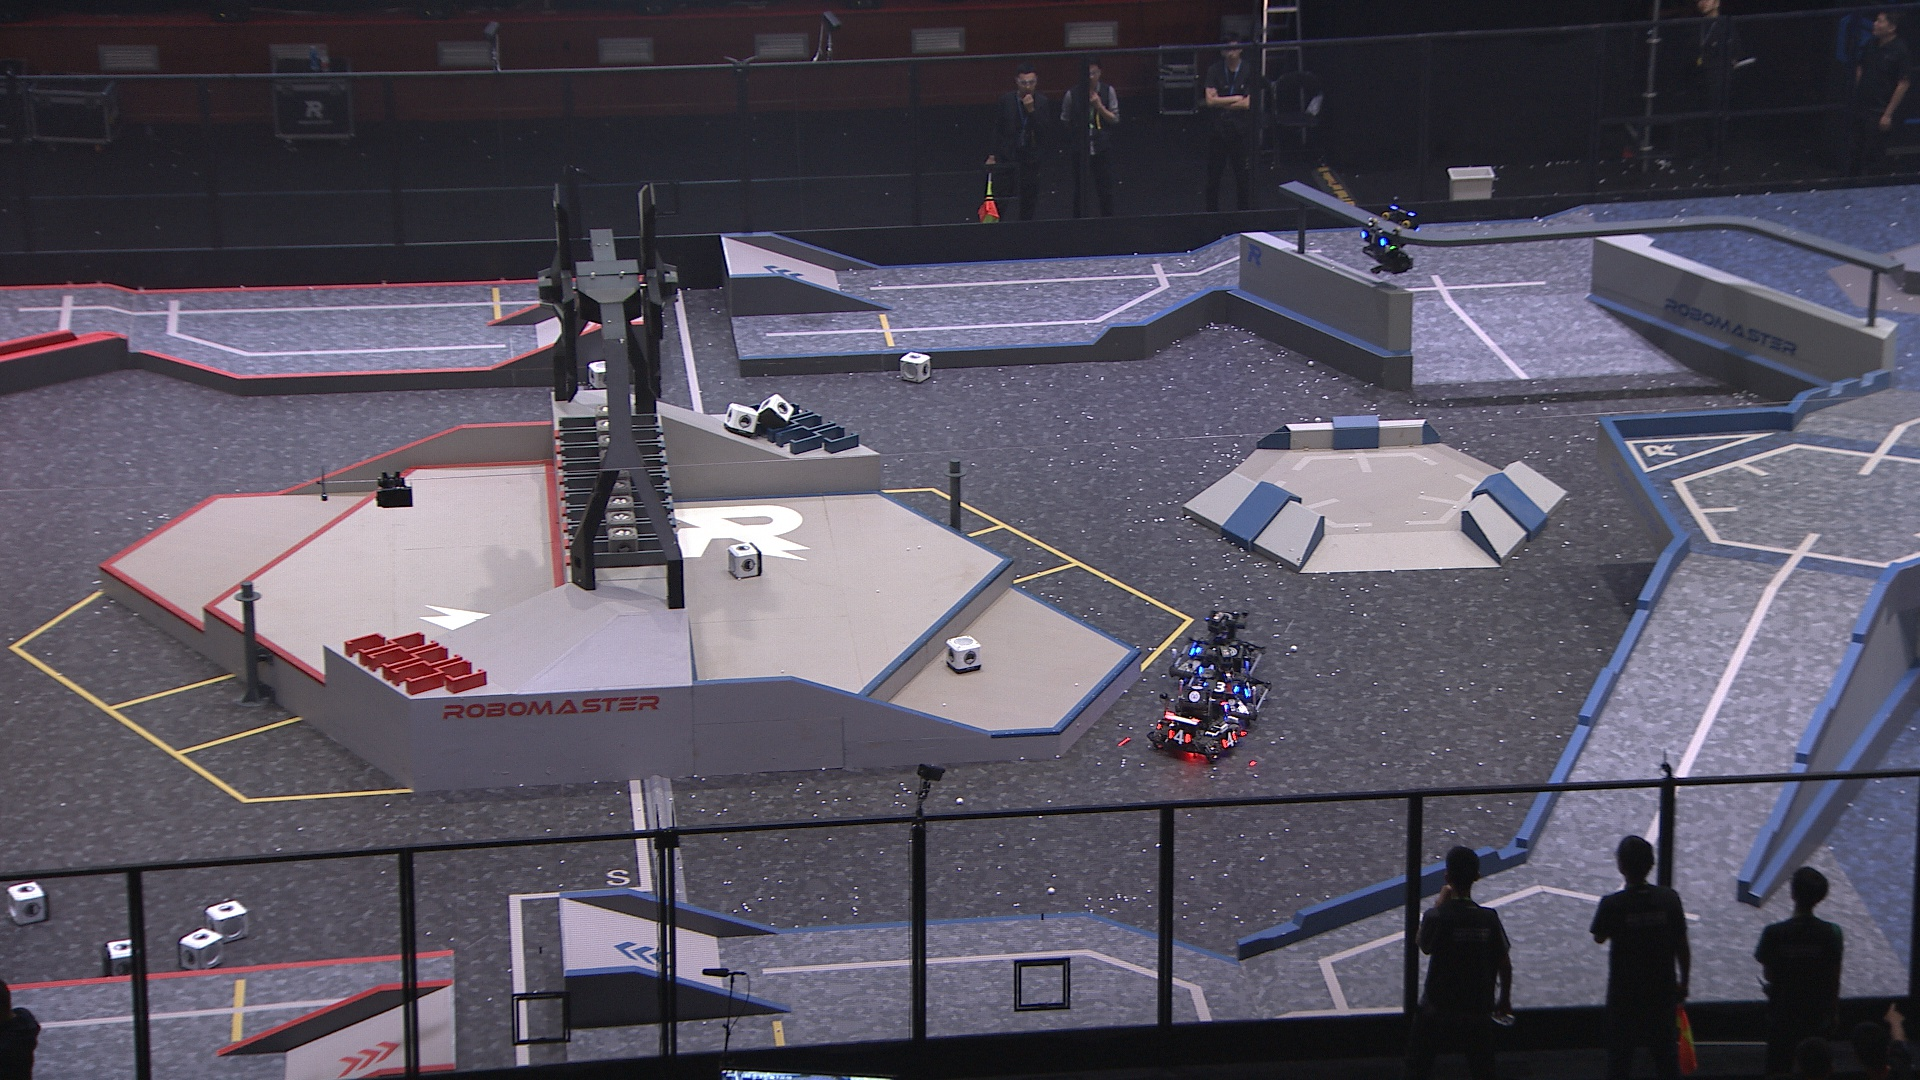armor: (1193, 661, 1225, 680), (1358, 229, 1389, 247), (1201, 680, 1234, 695), (1167, 727, 1191, 745), (1221, 728, 1237, 749), (1242, 679, 1254, 699)
car: (1166, 604, 1267, 680), (1153, 674, 1245, 756)
watcher: (1357, 196, 1424, 276)
